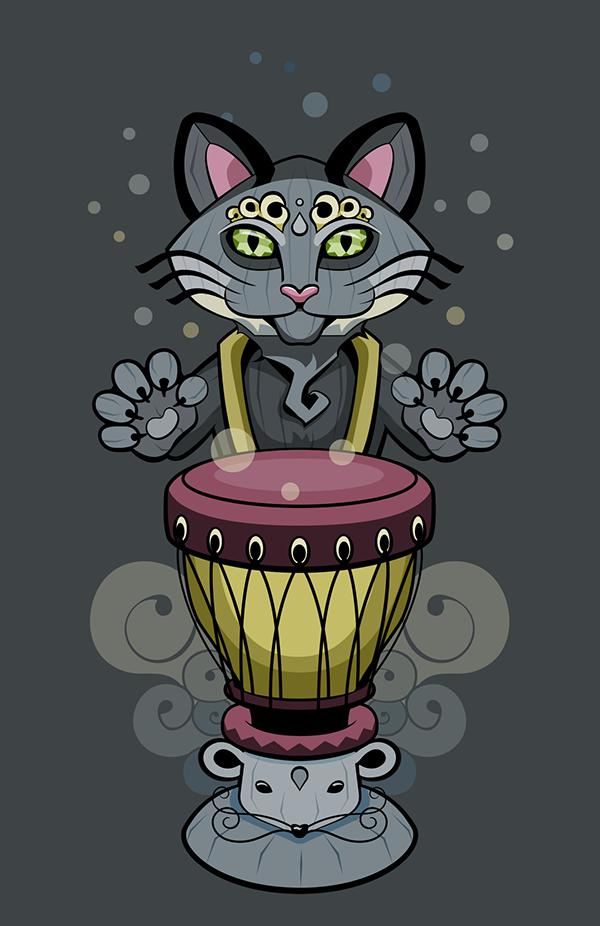cat: (71, 106, 576, 685)
